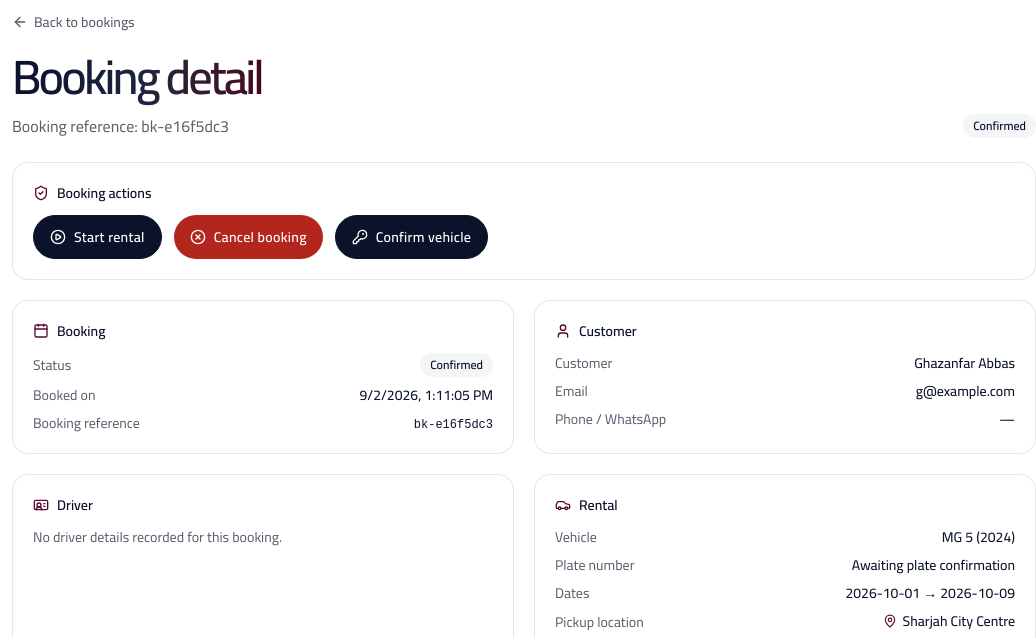
Scenario: BookingDetailPage — Phase 14 Confirm Vehicle action › requires a plate number before submitting
Click the button "Confirm vehicle": (412, 237) [335,215,488,259]
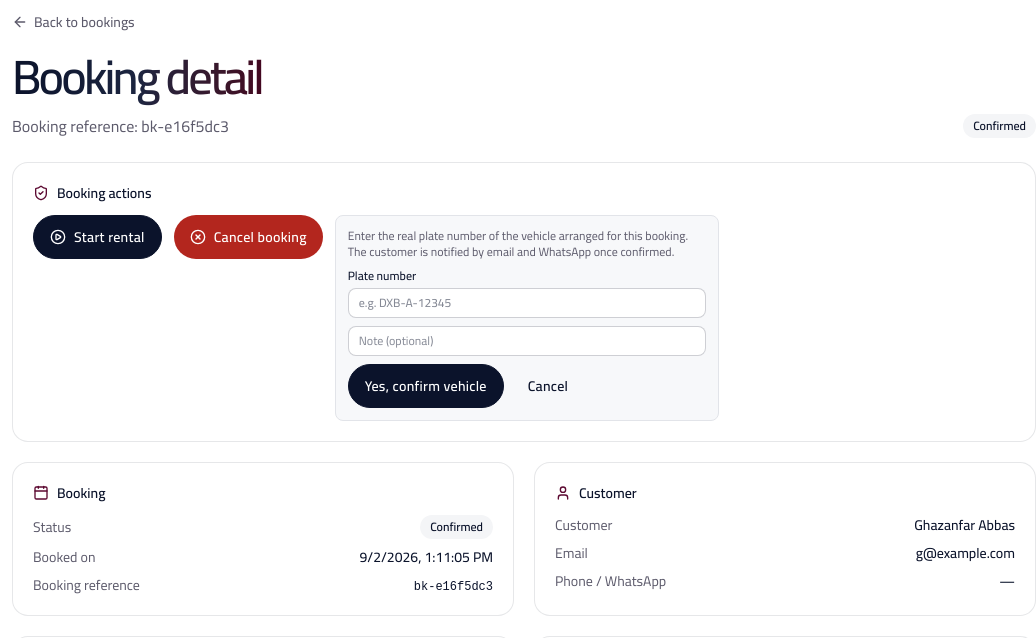
Click the button "Yes, confirm vehicle": (426, 386) [348,364,504,408]
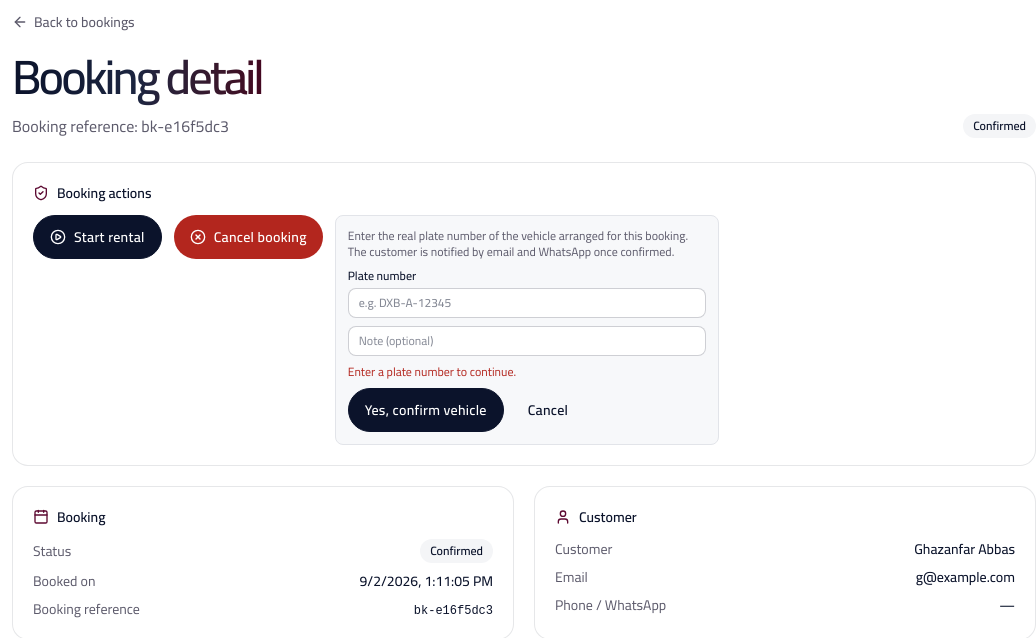
Expected: the text "Enter a plate number to continue." is shown, [348,360,516,383]
